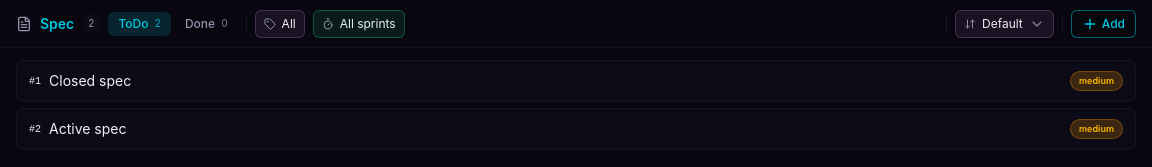
Test: SpecsBoard sprint filter › flags the active sprint as "Current" in the dropdown
The width and height of the screenshot is (1152, 167).
Click the button with test id "spec-sprint-filter-dropdown" at (359, 24), box [313,10,405,38]
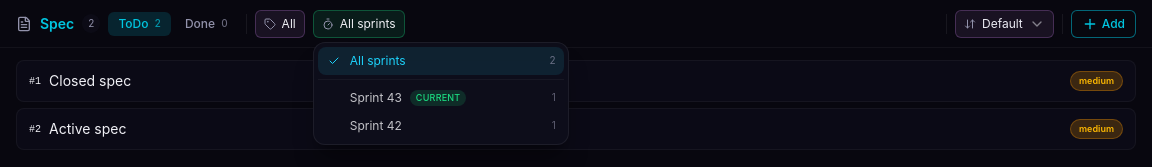
Result: the number of elements with test id "spec-sprint-current-badge" is 1 at [410,90,466,106]
Result: the text with test id "spec-sprint-current-badge" reads "Current" at [416,92,460,102]
